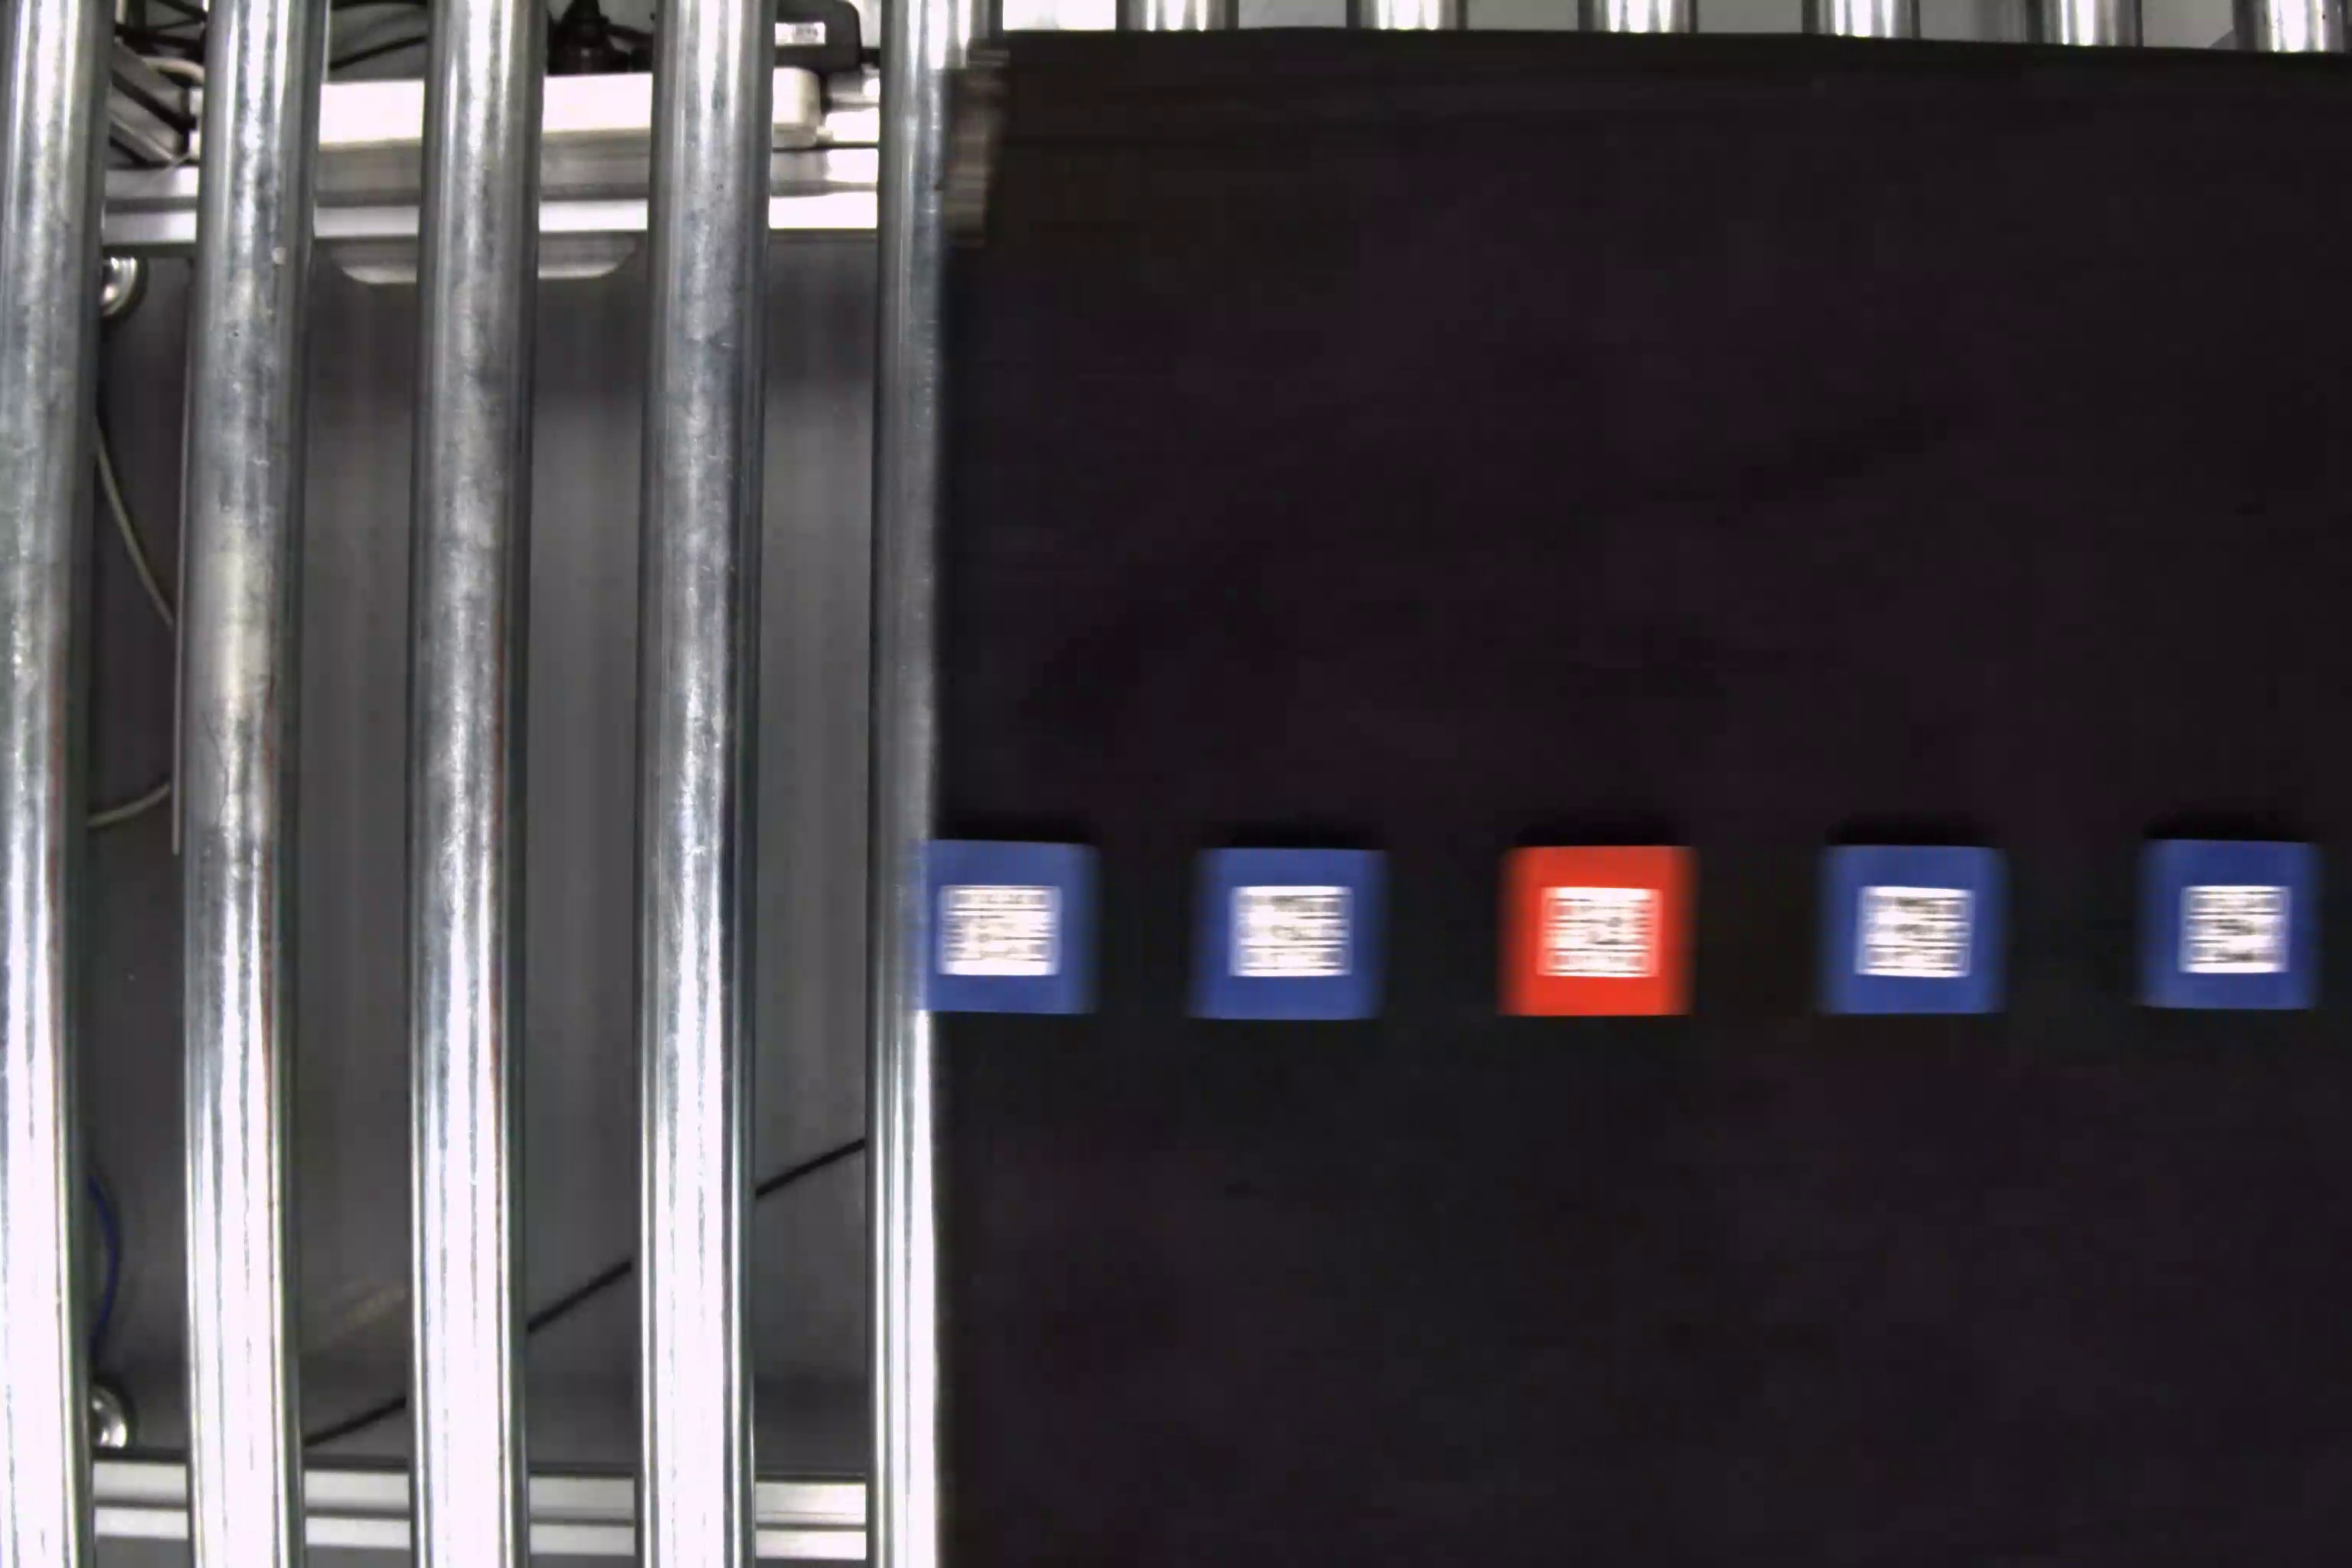wood: (1183, 835, 1391, 1022), (1501, 840, 1704, 1022), (1813, 842, 2014, 1018), (2138, 836, 2327, 1013), (922, 836, 1102, 1017)
